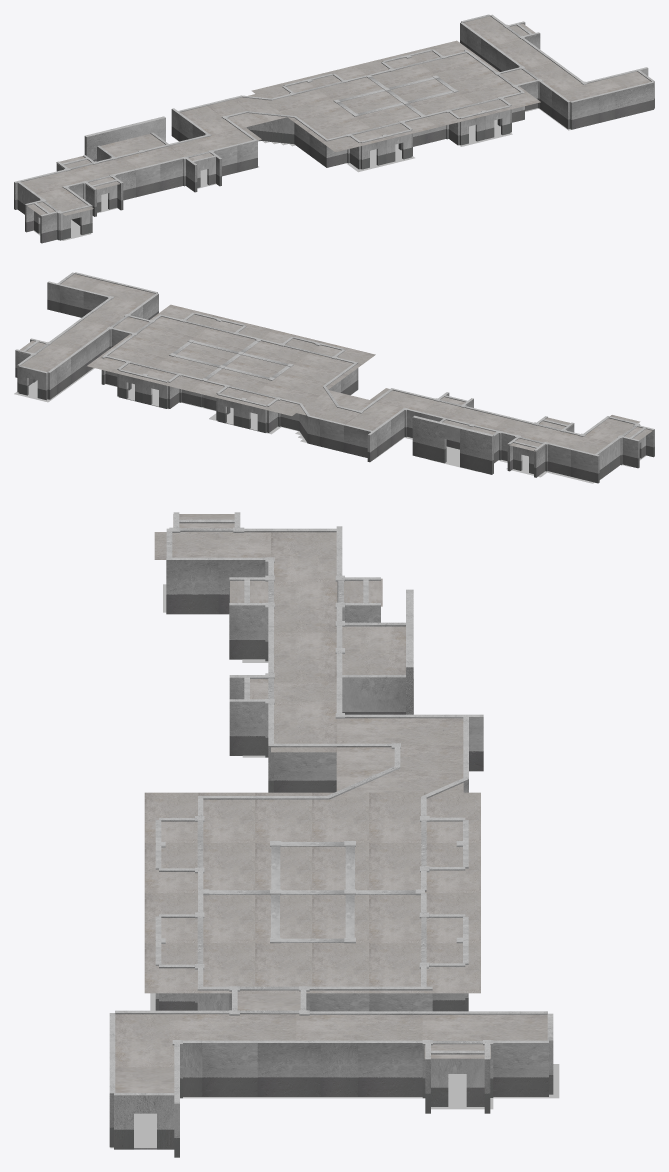
The model's file is TheResidentalBlock (2).fbx.
3 views of the same model, one above another, from view 1: azimuth 30°, elevation 25°; view 2: azimuth 150°, elevation 25°; view 3: azimuth 270°, elevation 25° (orthographic). The views are drawn at different scales.
Visible parts, largest first — view 1: Plane.049, Plane.055, Plane.058, Plane.054, Plane.053, Plane.051, Plane.052, Plane.050, Plane.074, Plane.073, Plane.065, Plane.069 (+37 smaller); view 2: Plane.058, Plane.049, Plane.054, Plane.055, Plane.050, Plane.052, Plane.051, Plane.053, Cube.344, Cube.342, Plane.074, Plane.073 (+36 smaller); view 3: Plane.049, Plane.055, Plane.058, Plane.054, Plane.053, Plane.052, Plane.050, Plane.051, Plane.065, Plane.074, Plane.073, Plane.077 (+41 smaller).
Part boxes in pixels (bbox=[...]): Plane.049: bbox=[266, 89, 344, 121]; Plane.055: bbox=[420, 51, 498, 83]; Plane.058: bbox=[294, 109, 371, 142]; Plane.054: bbox=[448, 71, 527, 103]; Plane.053: bbox=[372, 64, 443, 95]; Plane.051: bbox=[318, 77, 393, 107]; Plane.052: bbox=[399, 85, 473, 115]; Plane.050: bbox=[349, 97, 419, 128]; Plane.074: bbox=[526, 62, 584, 92]; Plane.073: bbox=[495, 39, 552, 68]; Plane.065: bbox=[180, 106, 237, 135]; Plane.069: bbox=[463, 16, 520, 45]; Plane.058: bbox=[283, 353, 362, 385]; Plane.049: bbox=[256, 373, 333, 404]; Plane.054: bbox=[129, 314, 206, 347]; Plane.055: bbox=[101, 335, 179, 367]; Plane.050: bbox=[234, 341, 309, 371]; Plane.052: bbox=[184, 328, 255, 359]; Plane.051: bbox=[203, 361, 278, 392]; Plane.053: bbox=[154, 349, 228, 378]; Cube.344: bbox=[460, 427, 493, 460]; Cube.342: bbox=[412, 415, 446, 449]; Plane.074: bbox=[83, 297, 141, 326]; Plane.073: bbox=[52, 320, 110, 349]; Plane.049: bbox=[312, 792, 423, 842]; Plane.055: bbox=[312, 943, 425, 993]; Plane.058: bbox=[198, 792, 312, 842]; Plane.054: bbox=[198, 943, 312, 993]; Plane.053: bbox=[312, 895, 421, 943]; Plane.052: bbox=[203, 895, 312, 943]; Plane.050: bbox=[203, 843, 312, 890]; Plane.051: bbox=[312, 843, 421, 890]; Plane.065: bbox=[336, 718, 463, 745]; Plane.074: bbox=[169, 1014, 296, 1042]; Plane.073: bbox=[295, 1014, 422, 1040]; Plane.077: bbox=[271, 532, 336, 582].
Bounding box in the file's own units: 14910 × 943 × 4793.
